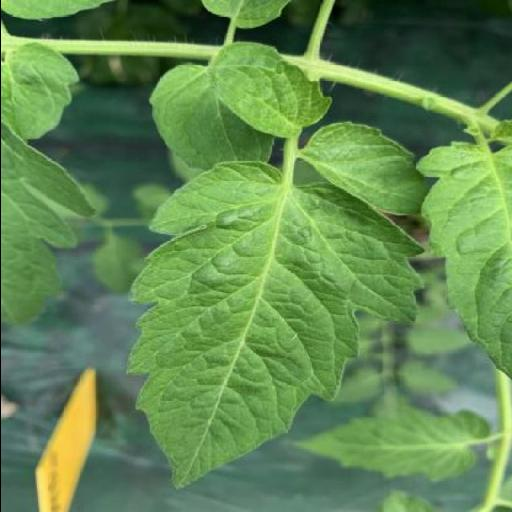Healthy: (126, 162, 422, 488), (210, 42, 330, 138), (304, 122, 428, 214)
